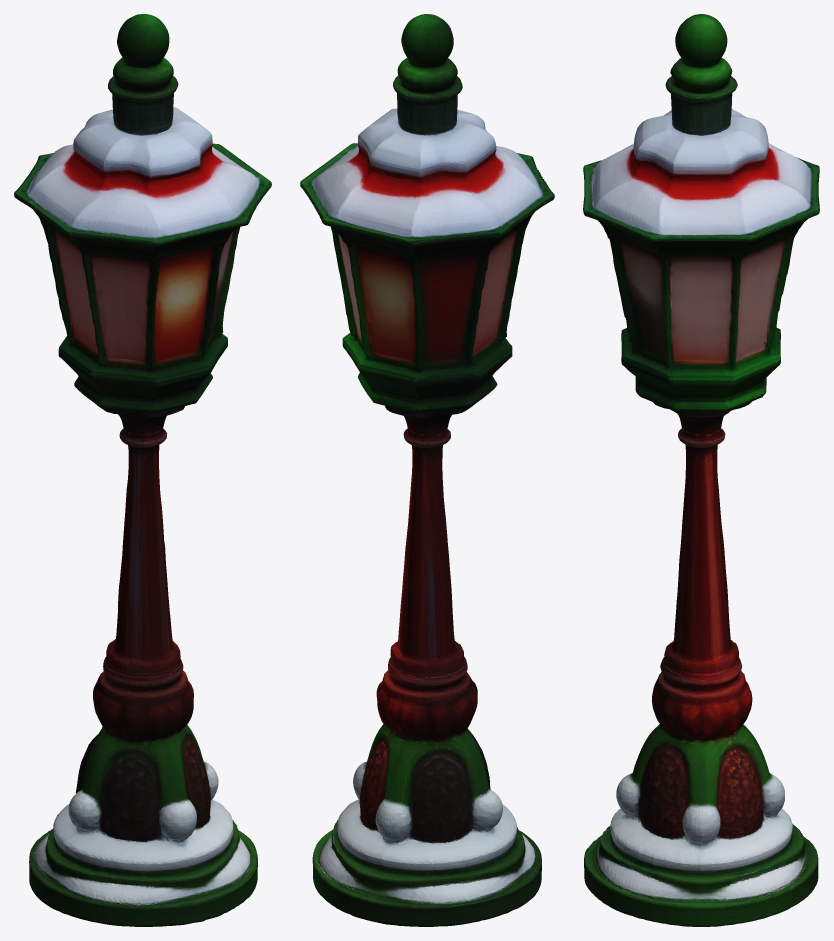
File: src.glb
3 renders of one model, left to right at view 1: azimuth 30°, elevation 25°; view 2: azimuth 150°, elevation 25°; view 3: azimuth 270°, elevation 25°, orthographic.
Visible parts, largest first — view 1: world; view 2: world; view 3: world.
Part boxes in pixels (left/top/right/bottom): world: left=14, top=14, right=271, bottom=926; world: left=300, top=14, right=554, bottom=926; world: left=583, top=14, right=819, bottom=926.
Size of the model in its own units: 0.2482 by 1 by 0.2491.
1 material, 1 textured.
